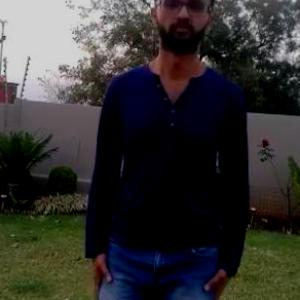follow: (85, 0, 242, 299)
